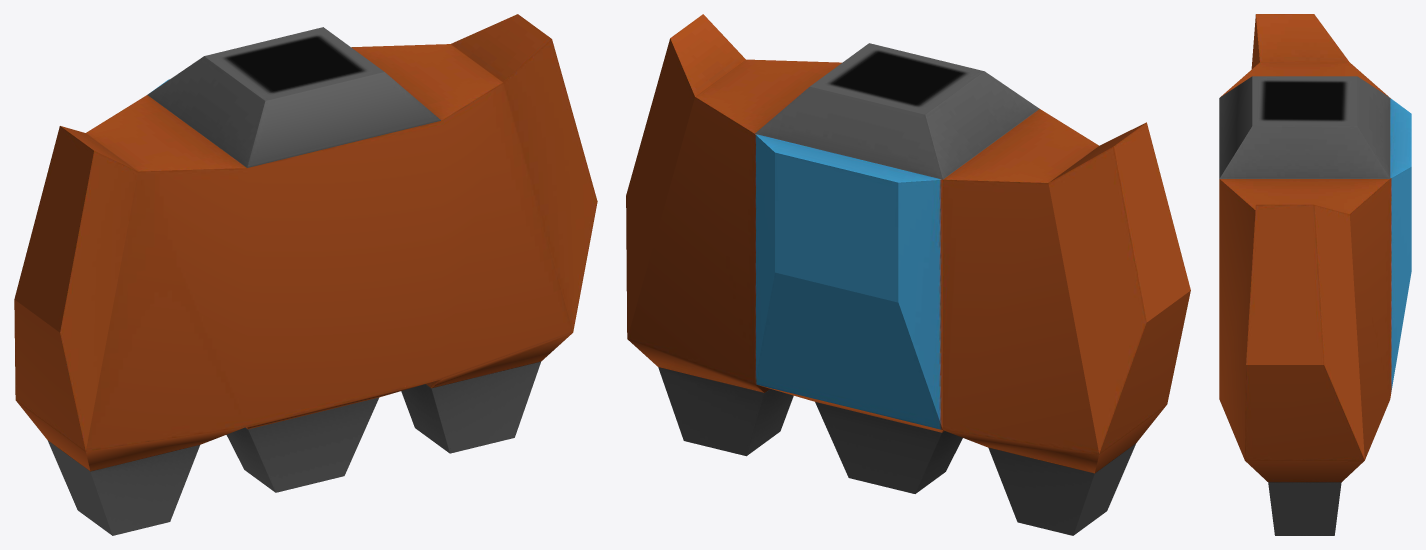
Rendered from boss_model.fbx.
3 views of the same model, side by side, from view 1: azimuth 30°, elevation 25°; view 2: azimuth 150°, elevation 25°; view 3: azimuth 270°, elevation 25° (orthographic). The views are drawn at different scales.
Visible parts, largest first — view 1: pCube1; view 2: pCube1; view 3: pCube1.
Part boxes in pixels (box(x1,y1,x2,y2)): pCube1: box(14, 14, 597, 535); pCube1: box(626, 14, 1190, 535); pCube1: box(1219, 14, 1411, 535).
Size of the model in its own units: 7.24 by 5.28 by 2.62.
2 materials, 2 textured.
